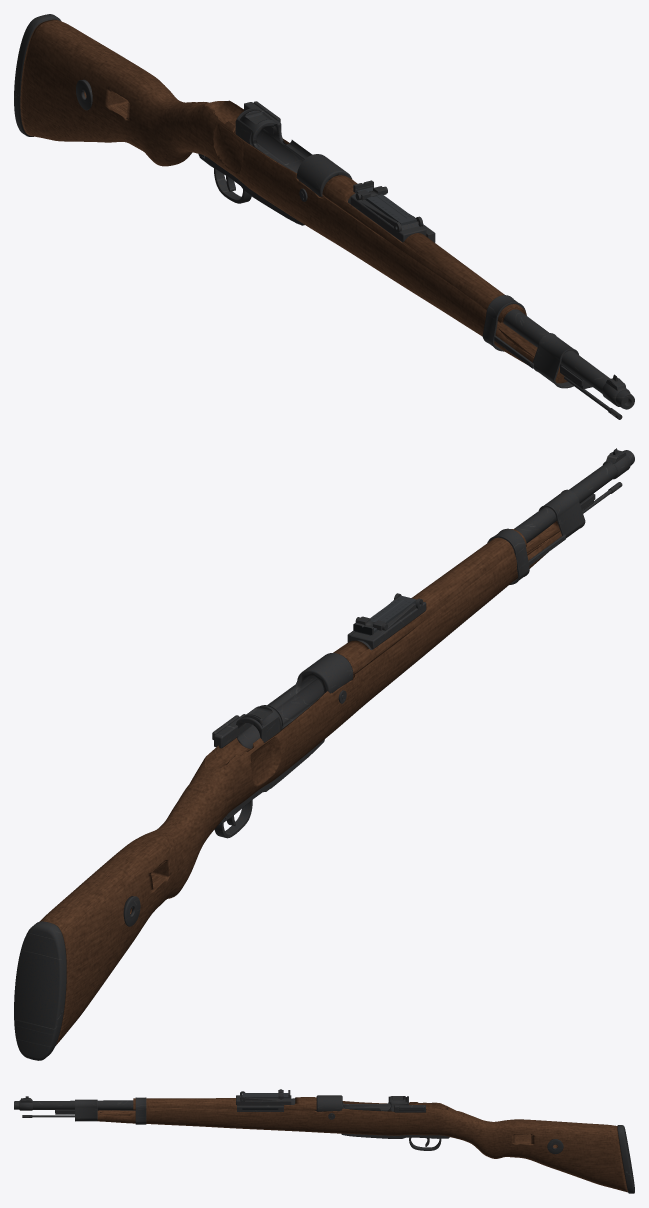
Rendered from SM_Kar98k_BoltBody.fbx.
3 renders of one model, top to bottom at view 1: azimuth 30°, elevation 25°; view 2: azimuth 150°, elevation 25°; view 3: azimuth 270°, elevation 25°, orthographic. The views are drawn at different scales.
Visible parts, largest first — view 1: SM_Kar98k_Body; view 2: SM_Kar98k_Body; view 3: SM_Kar98k_Body.
Part boxes in pixels (left/top/right/bottom): SM_Kar98k_Body: left=14, top=14, right=634, bottom=419; SM_Kar98k_Body: left=14, top=448, right=634, bottom=1060; SM_Kar98k_Body: left=14, top=1089, right=634, bottom=1193.
Size of the model in its own units: 5.32 by 110 by 19.66.
